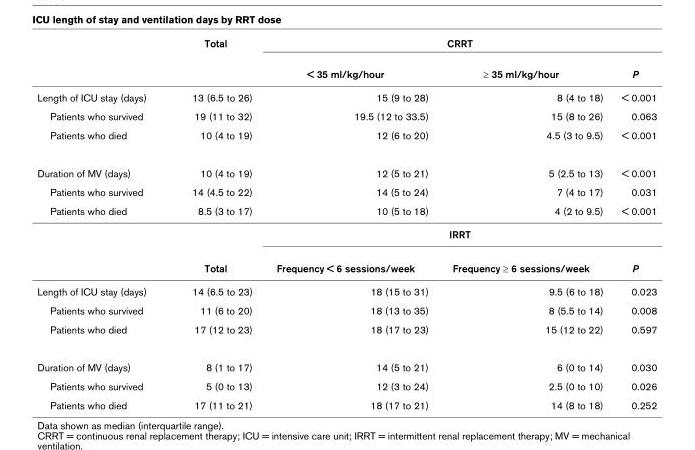table: (36, 36, 656, 410)
table column: (263, 36, 439, 410), (439, 36, 611, 410), (36, 36, 168, 410), (168, 36, 263, 410), (611, 36, 656, 410)
table column header: (36, 36, 656, 85)
table row: (36, 153, 656, 182), (36, 250, 656, 279), (36, 347, 656, 376), (36, 57, 656, 85), (36, 125, 656, 153), (36, 222, 656, 250), (36, 319, 656, 347), (36, 36, 656, 57), (36, 85, 656, 106), (36, 201, 656, 222), (36, 279, 656, 300), (36, 106, 656, 125), (36, 182, 656, 201), (36, 300, 656, 319), (36, 376, 656, 395), (36, 395, 656, 410)
table spanning cell: (263, 222, 656, 250), (36, 201, 168, 279), (263, 36, 656, 57), (168, 36, 263, 85)
